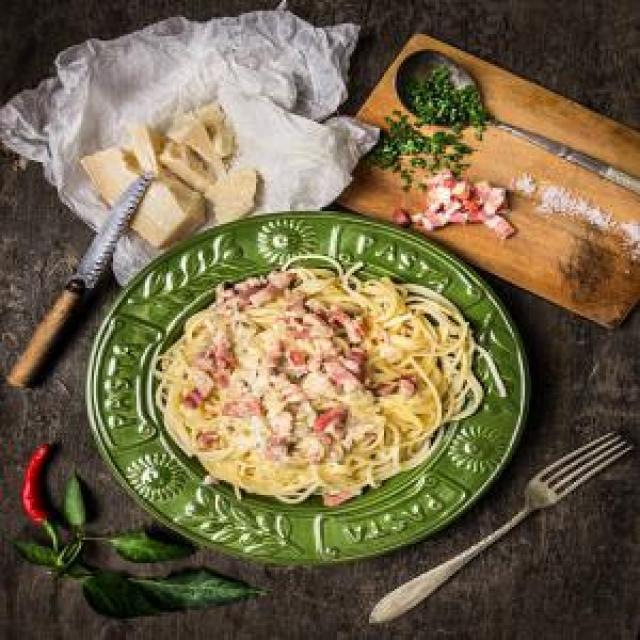knife: (9, 156, 161, 405)
